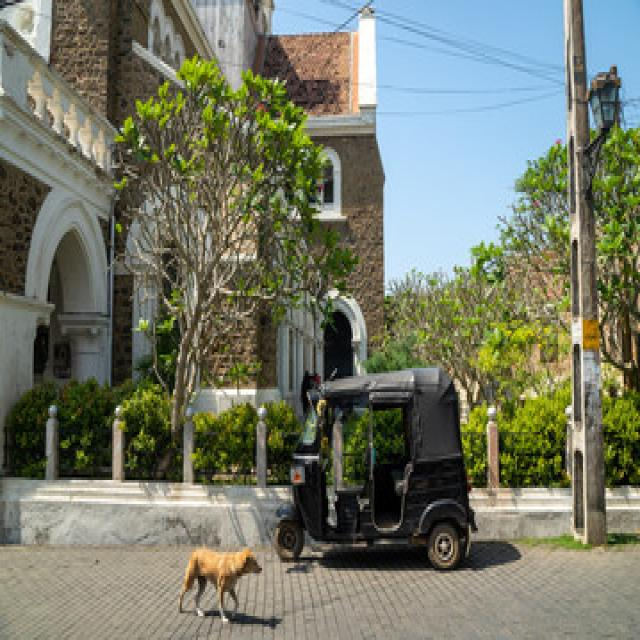three wheeler: (275, 368, 474, 571)
